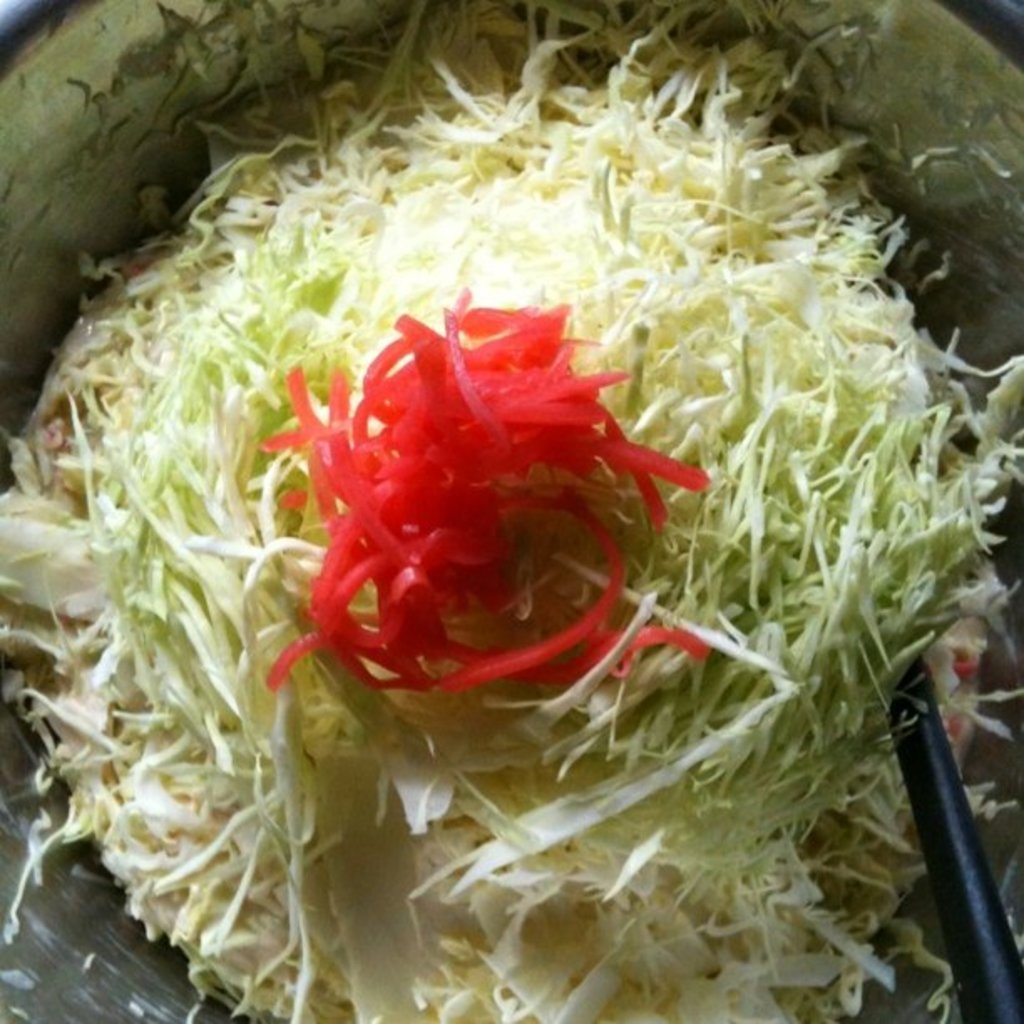Cabbage: (1, 0, 1023, 1024)
